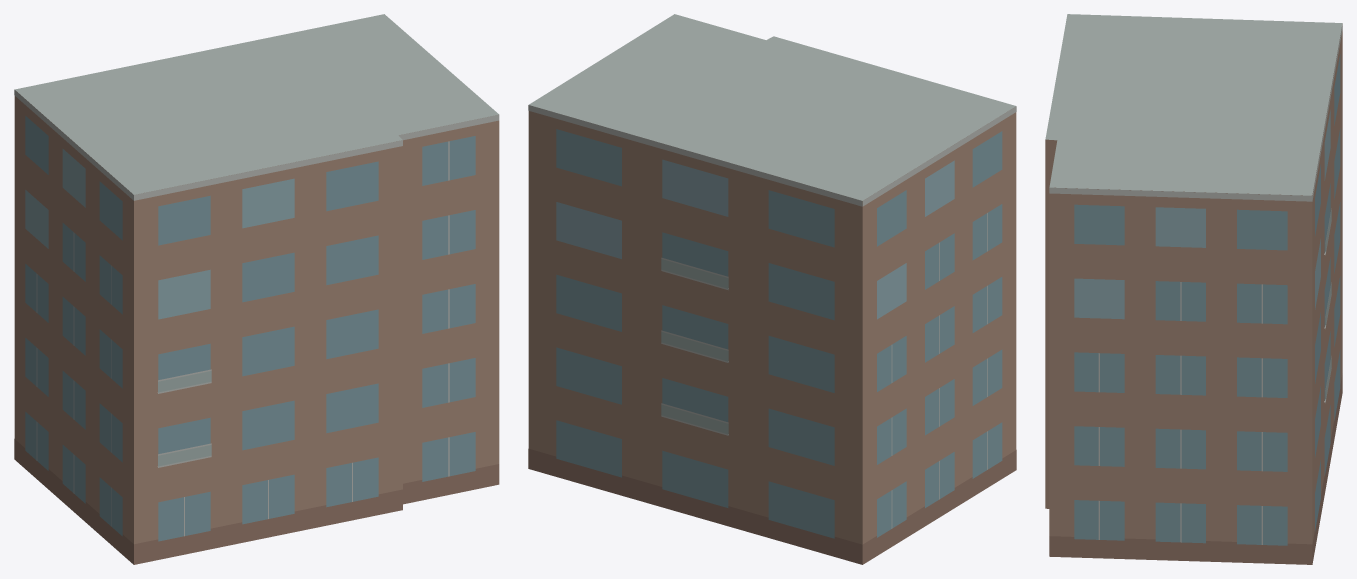
File: survey-upis-32990273.glb
3 renders of one model, left to right at view 1: azimuth 30°, elevation 25°; view 2: azimuth 150°, elevation 25°; view 3: azimuth 270°, elevation 25°, orthographic.
Visible parts, largest first — view 1: survey-upis-32990273.tmp; view 2: survey-upis-32990273.tmp; view 3: survey-upis-32990273.tmp.
Boxes of the visible parts, x1,y1,x2,y2 form: survey-upis-32990273.tmp: [14, 14, 499, 564]; survey-upis-32990273.tmp: [528, 14, 1016, 564]; survey-upis-32990273.tmp: [1045, 14, 1342, 564].
Size of the model in its own units: 16.11 by 15.25 by 11.14.
